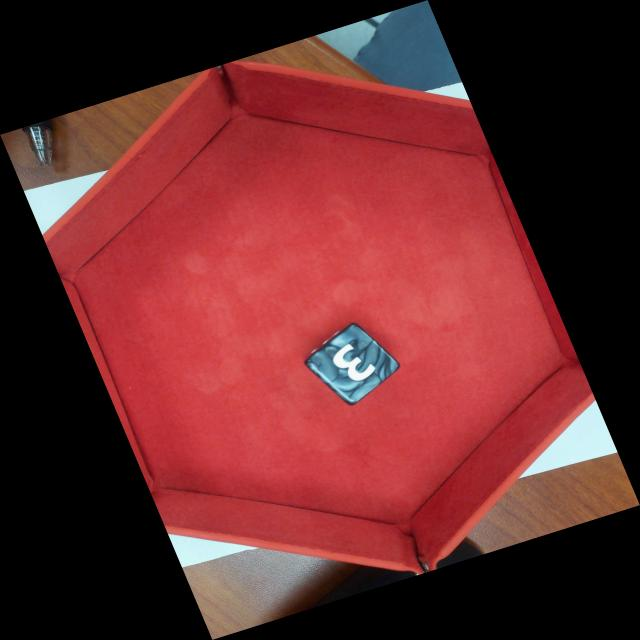dice: (304, 322, 401, 406)
